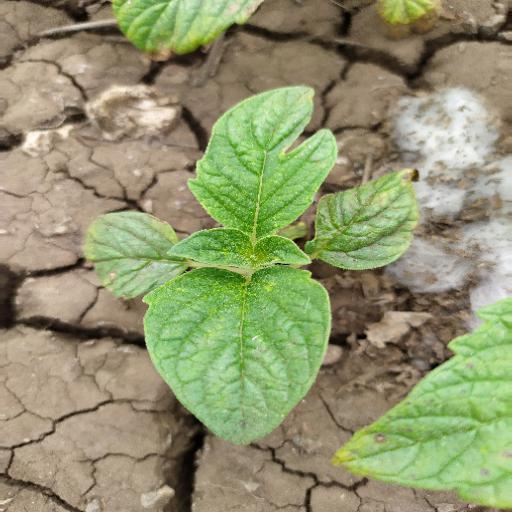crop: (75, 77, 429, 447)
